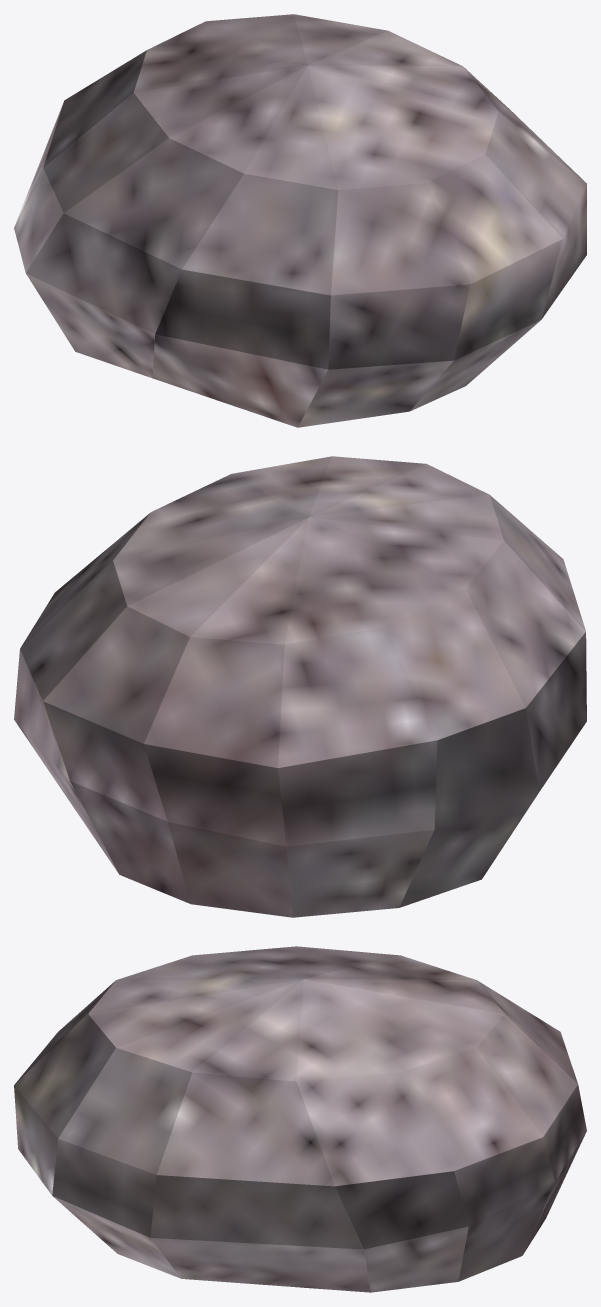
File: MS_Rock_3.fbx
The picture shows the model from 3 angles, top to bottom: view 1: azimuth 30°, elevation 25°; view 2: azimuth 150°, elevation 25°; view 3: azimuth 270°, elevation 25°; orthographic projection. The views are drawn at different scales.
Parts seen in each view (by area): view 1: Cylinder; view 2: Cylinder; view 3: Cylinder.
Boxes of the visible parts, box(x1,y1,x2,y2) form: Cylinder: box(14, 14, 586, 427); Cylinder: box(14, 456, 586, 917); Cylinder: box(14, 946, 586, 1292).
Size of the model in its own units: 24.11 by 12.98 by 27.03.
